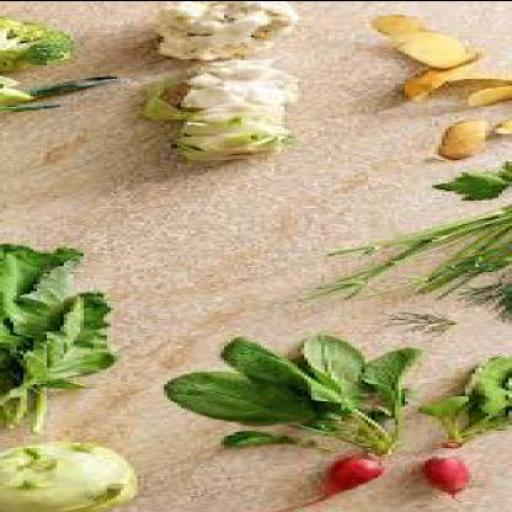biodegradable: (171, 335, 415, 458), (311, 202, 511, 321), (3, 242, 124, 434), (144, 59, 304, 163), (4, 442, 145, 511), (415, 353, 511, 452), (164, 370, 321, 426), (154, 2, 301, 61), (264, 454, 392, 511), (3, 74, 124, 114), (4, 20, 80, 74), (418, 454, 488, 506), (408, 70, 509, 105), (394, 32, 476, 70), (438, 120, 492, 162), (438, 169, 508, 201), (385, 312, 462, 334), (375, 15, 429, 39), (468, 85, 510, 108), (498, 117, 511, 135)
